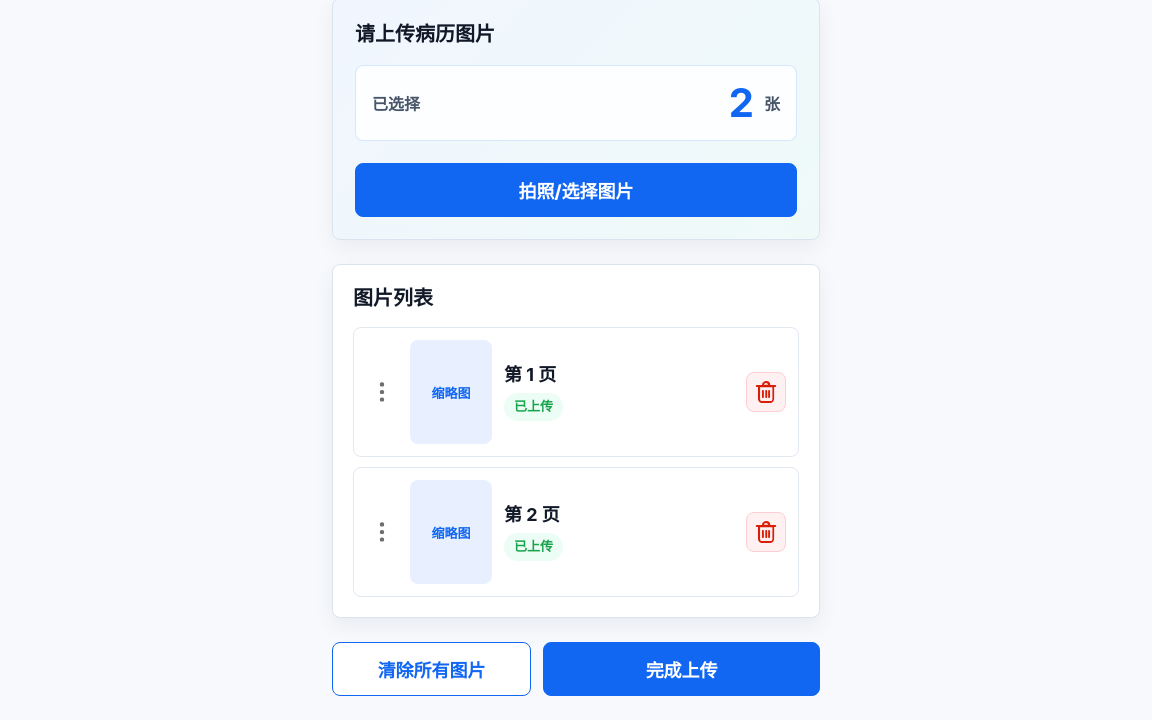
MobileCapturePage › handles partial deletion failure by syncing server state
This screenshot has width=1152, height=720.
(page scrolled)
Check: the heading "第 1 页" is shown, box [504,364,556,385]
Check: the heading "第 2 页" is shown, box [504,504,560,525]
Click the button "清除所有图片": (432, 669) [332,642,531,696]
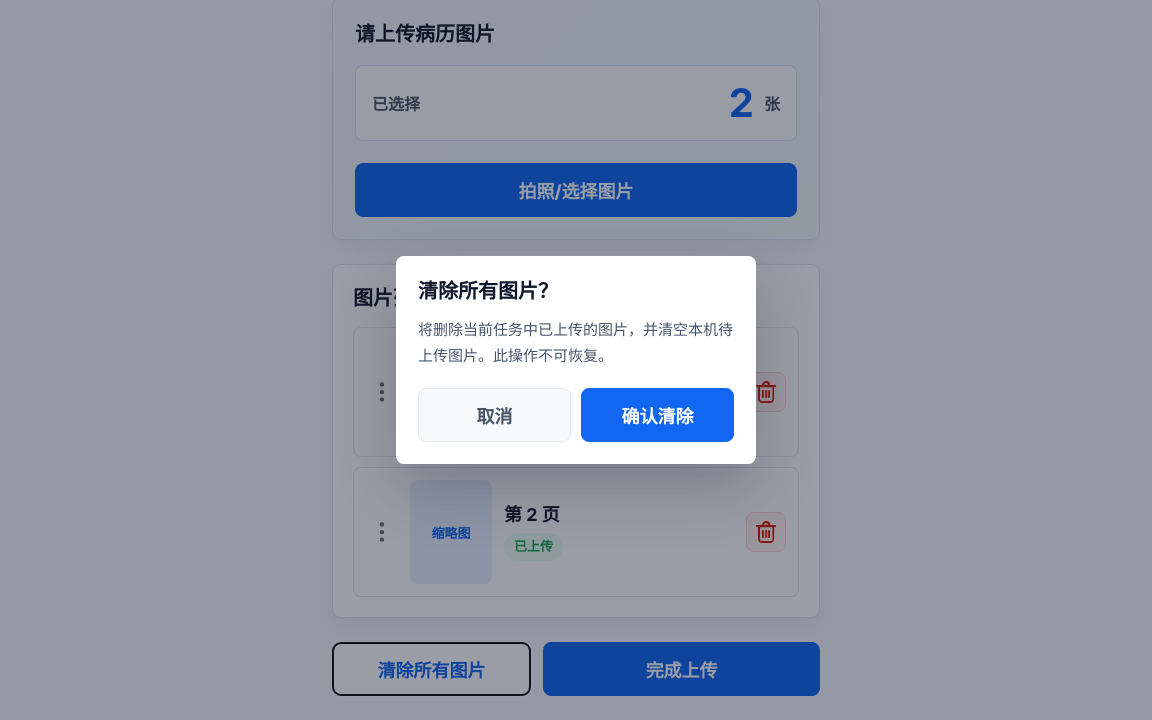
Click the button "确认清除": (658, 415) [581,388,734,442]
(page scrolled)
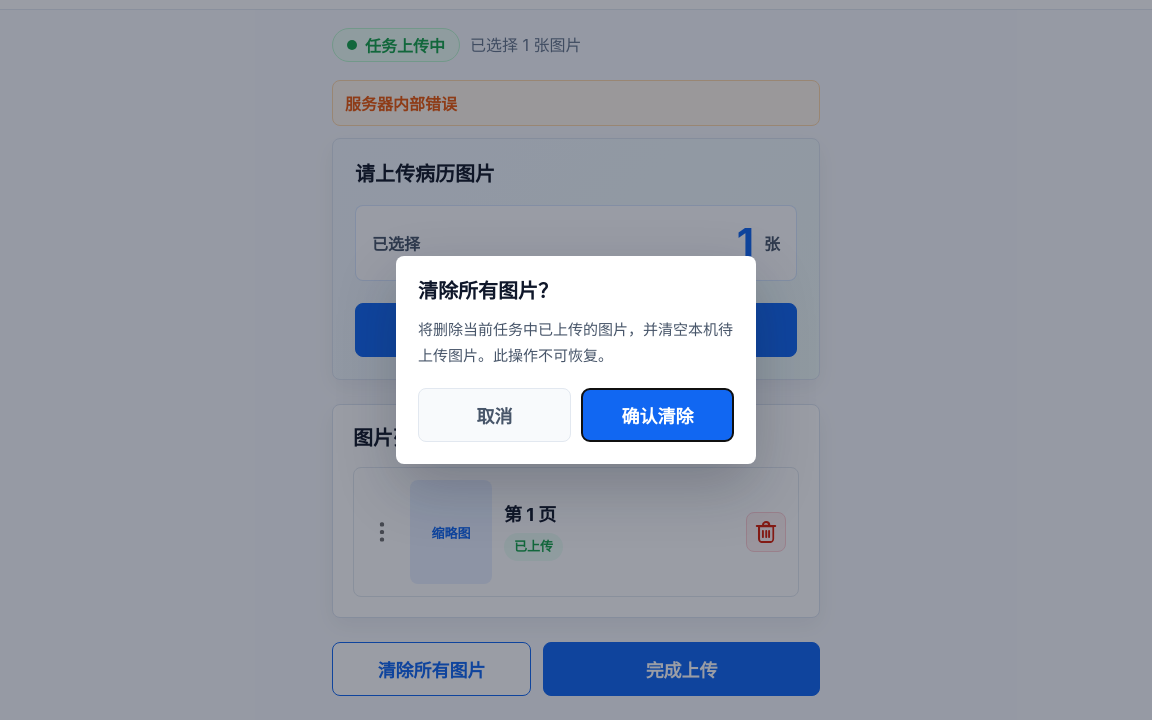
Check: the text "服务器内部错误" is shown, box [332,80,820,126]
Check: the heading "第 1 页" is shown, box [504,504,556,525]
Check: the heading "第 2 页" is gone
